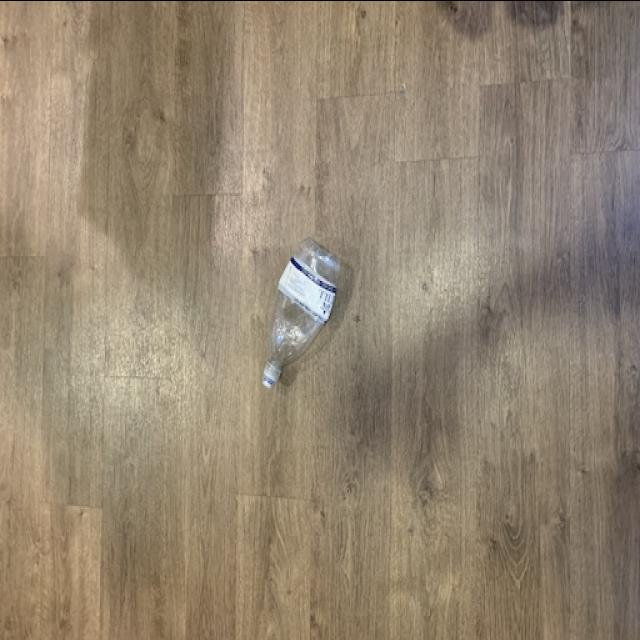litter: (262, 230, 342, 390)
